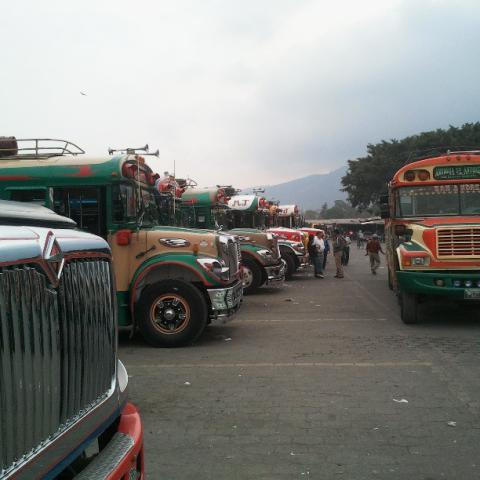bus: (2, 141, 242, 350), (1, 197, 150, 474), (380, 147, 479, 324), (180, 187, 290, 294), (228, 186, 309, 278), (269, 199, 311, 269), (279, 205, 325, 240)
